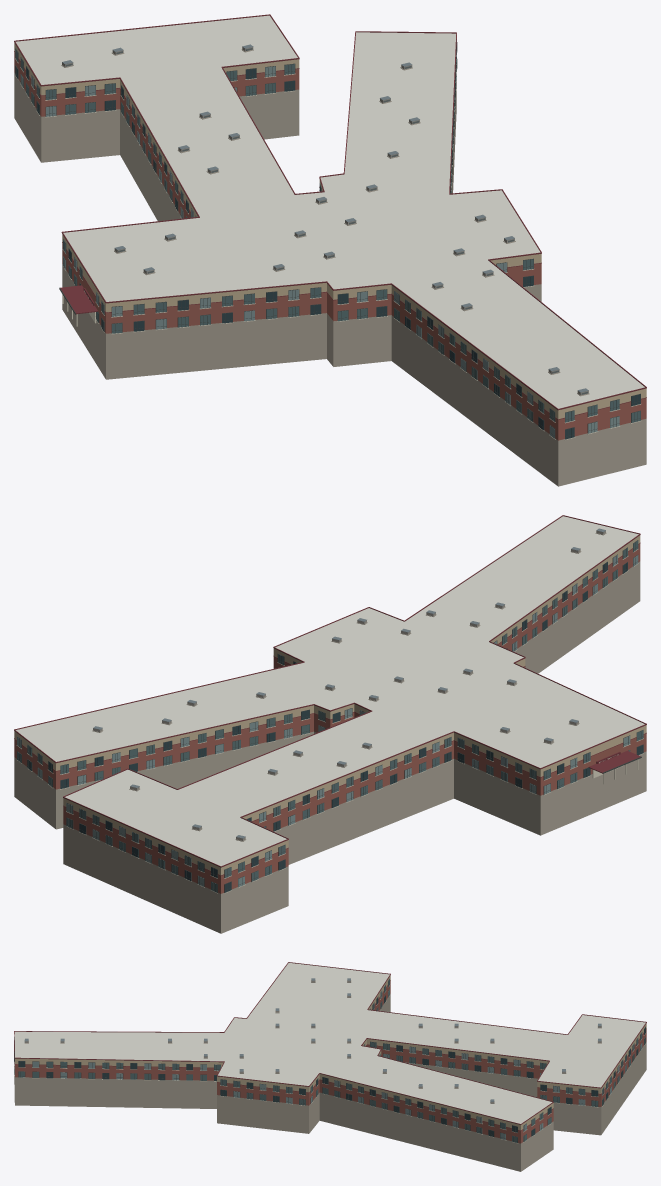
Rendered from lafayette-lower-elementary.glb.
3 renders of one model, top to bottom at view 1: azimuth 30°, elevation 25°; view 2: azimuth 150°, elevation 25°; view 3: azimuth 270°, elevation 25°, orthographic. The views are drawn at different scales.
Visible parts, largest first — view 1: 856517676 | Roof, 856517676 | Shell and foundation, 856517676 | Facades; view 2: 856517676 | Roof, 856517676 | Shell and foundation, 856517676 | Facades; view 3: 856517676 | Roof, 856517676 | Shell and foundation, 856517676 | Facades.
Boxes of the visible parts, x1,y1,x2,y2 form: 856517676 | Roof: [14, 15, 646, 486]; 856517676 | Shell and foundation: [14, 43, 646, 440]; 856517676 | Facades: [14, 14, 646, 439]; 856517676 | Roof: [14, 516, 646, 933]; 856517676 | Shell and foundation: [14, 535, 646, 893]; 856517676 | Facades: [14, 515, 646, 893]; 856517676 | Roof: [14, 963, 646, 1171]; 856517676 | Shell and foundation: [14, 975, 646, 1143]; 856517676 | Facades: [14, 962, 646, 1143].
Size of the model in its own units: 132 by 18.28 by 212.
